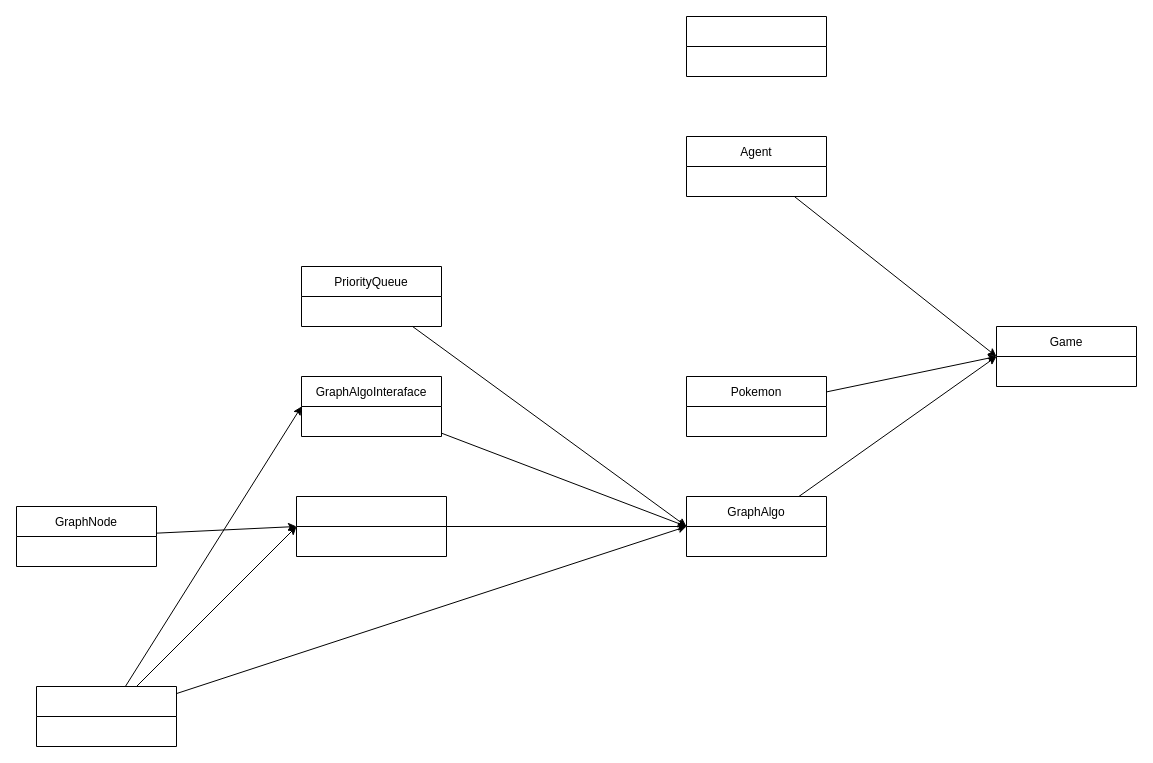
This 1153x763 diagram has some shape labels left out. Each missing label, with the box of its shape:
Client: (686, 16, 826, 76)
DiGraph: (296, 496, 446, 556)
GraphInteraface: (36, 686, 176, 746)
